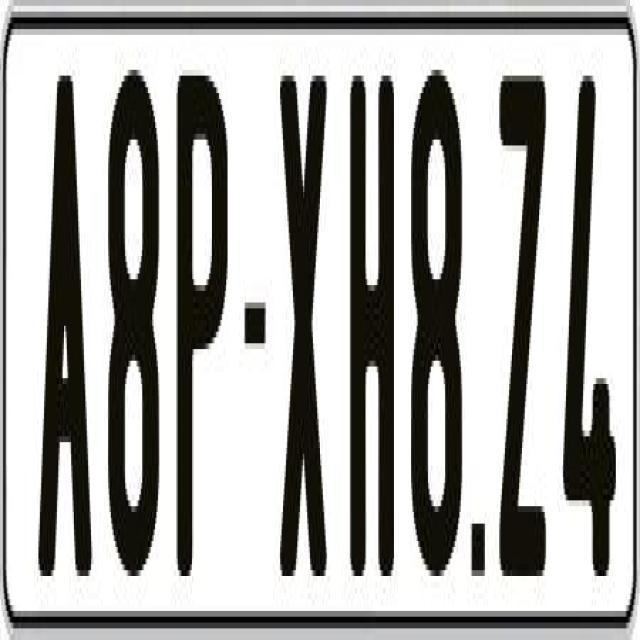4: (558, 70, 618, 600)
8: (406, 58, 466, 570), (104, 52, 158, 564)
A: (38, 64, 96, 588)
H: (348, 64, 392, 576)
P: (178, 70, 228, 600)
X: (276, 64, 330, 582)
Z: (496, 63, 549, 600)
